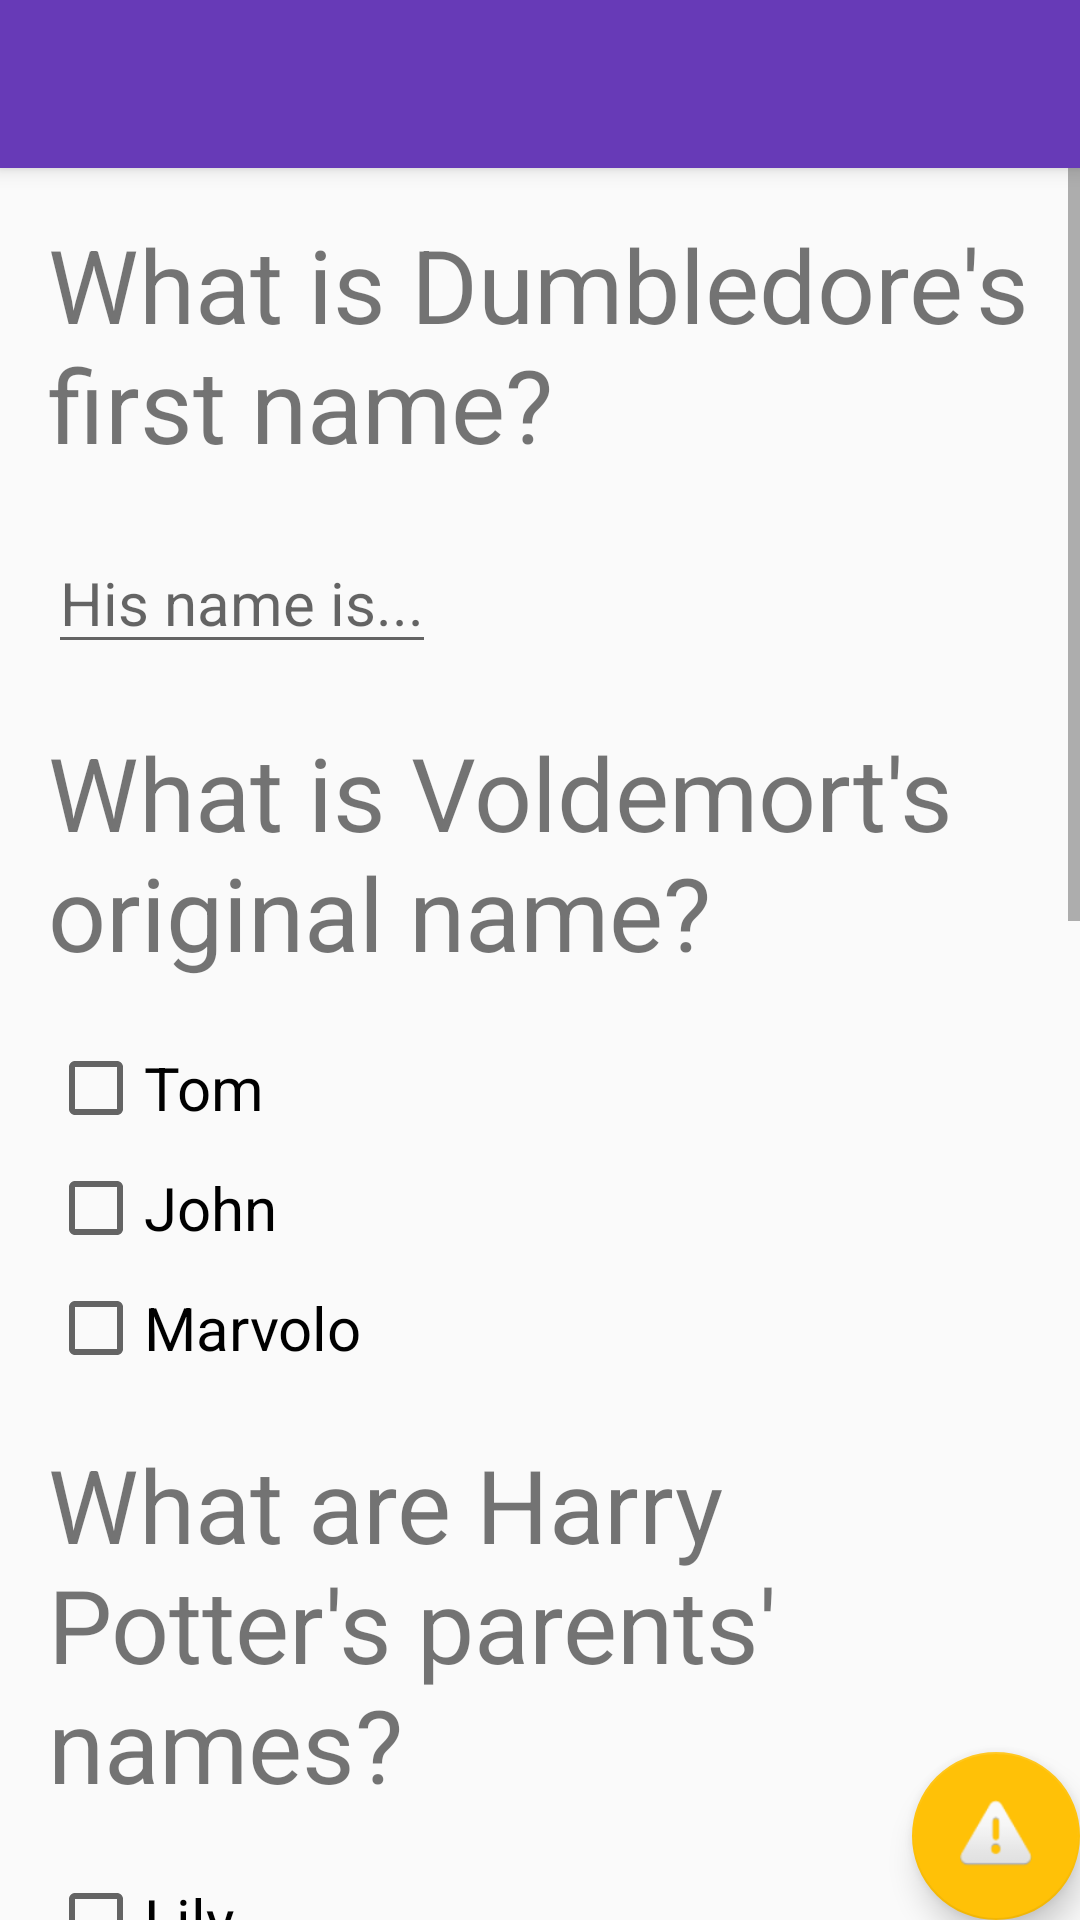

Locate icon controls on the screen. Image size 1080w x 1920h, boxes as bbox=[x1, y1, x2, y2].
alert: bbox=[912, 1752, 1080, 1920]
